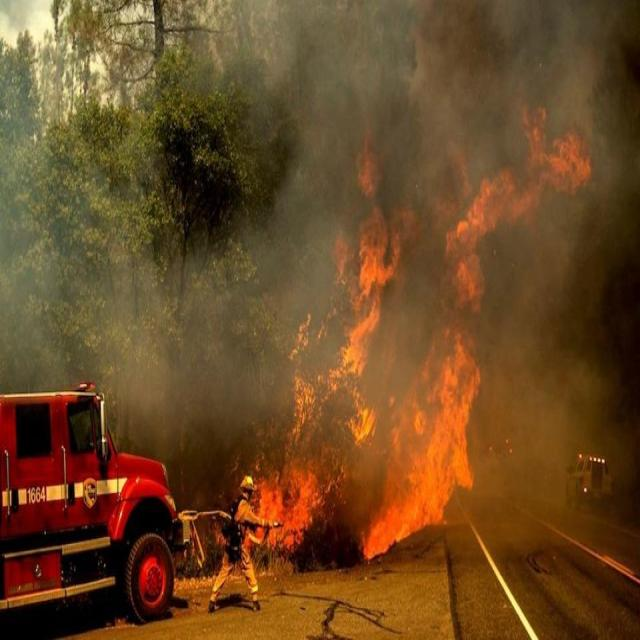Fire: (268, 98, 571, 563)
